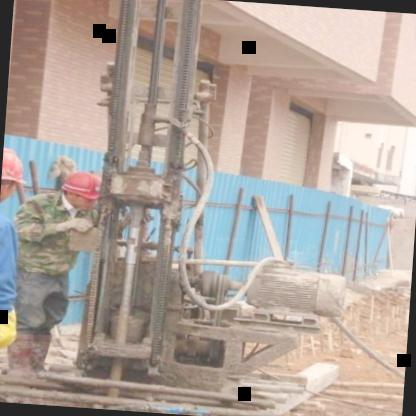helmet: (62, 168, 102, 212), (0, 144, 27, 206)
